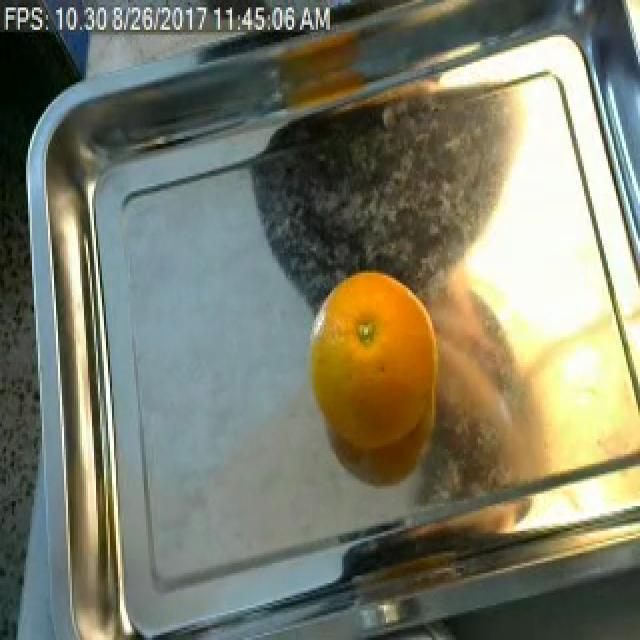Fruit: (294, 261, 460, 498)
